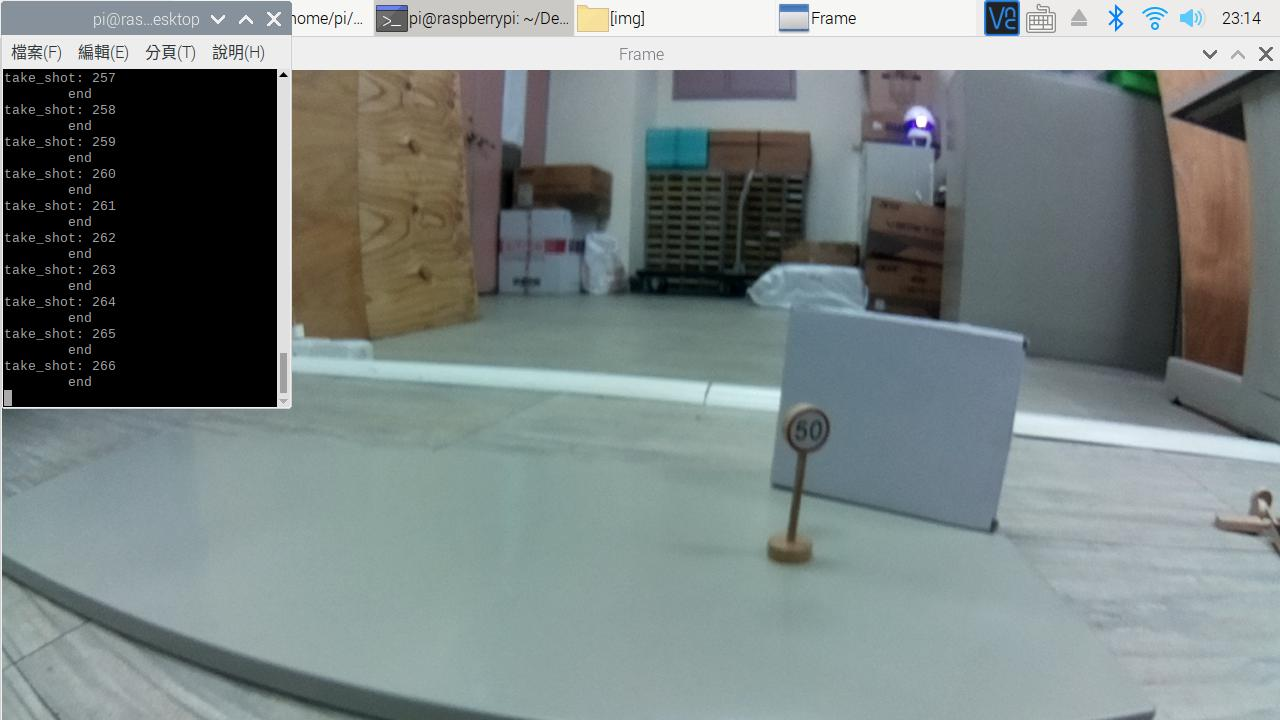Speed50: (773, 392, 844, 472)
